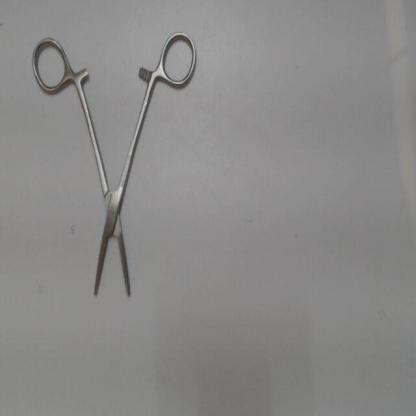Mayo Needle Holder: (26, 28, 202, 307)
